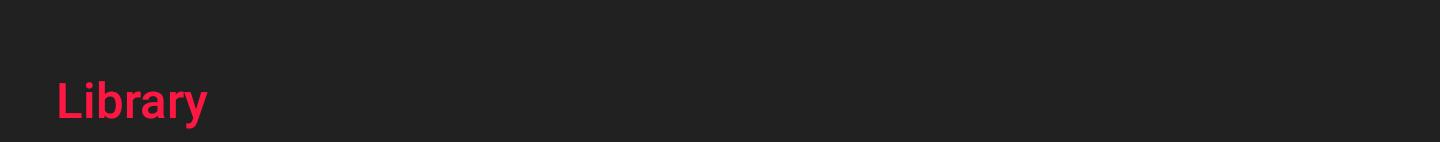TextView: (1, 1, 1439, 141)
